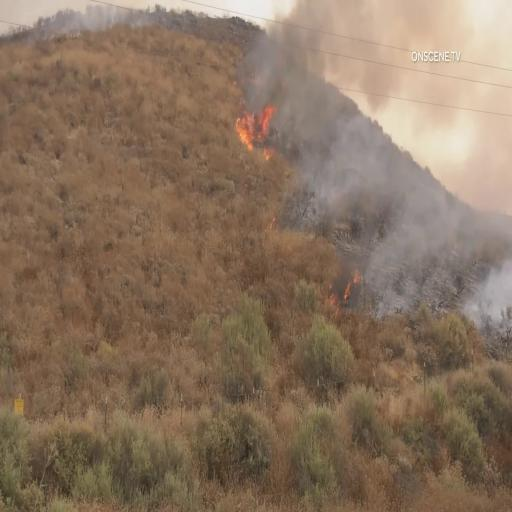fire: (237, 99, 276, 166)
